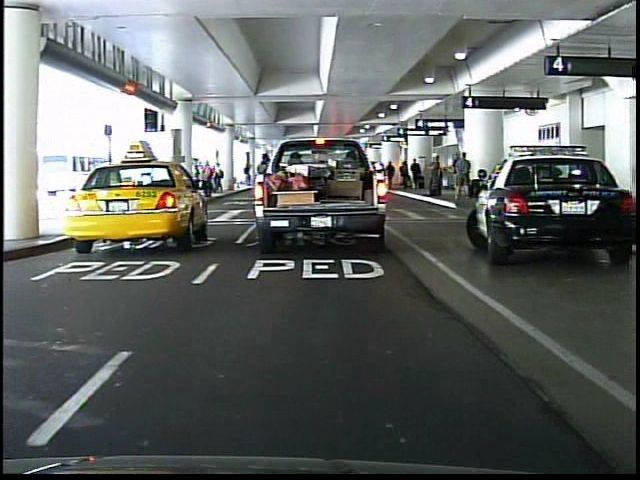person: (248, 150, 275, 219), (311, 145, 336, 205), (242, 161, 255, 189)
